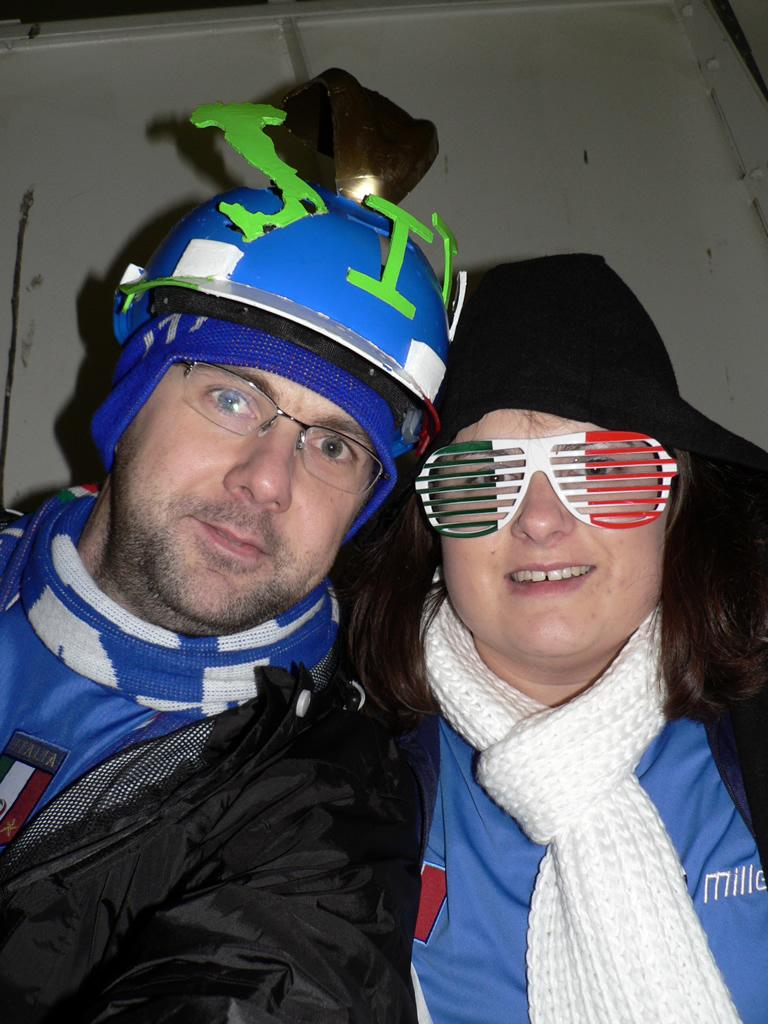helmet: (111, 186, 449, 632)
nohelmet: (412, 252, 697, 679)
